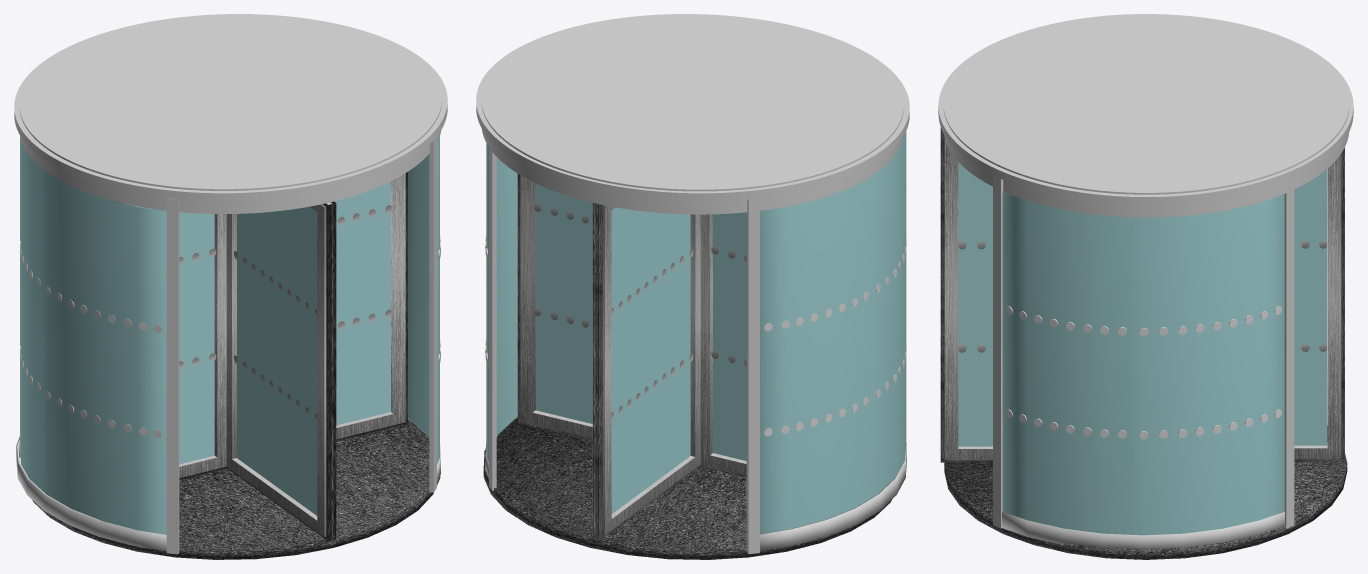
File: RevolvingDoor.fbx
The picture shows the model from 3 angles, left to right: view 1: azimuth 30°, elevation 25°; view 2: azimuth 150°, elevation 25°; view 3: azimuth 270°, elevation 25°; orthographic projection.
Parts seen in each view (by area): view 1: Ceiling, Doors, Glass, Carpet, Glass2, Top, Pillar, Pillar4, Base, Dots; view 2: Ceiling, Doors, Glass, Carpet, Glass2, Top, Pillar2, Base, Pillar3, Dots; view 3: Glass2, Ceiling, Doors, Carpet, Top, Base2, Pillar3, Pillar4, Dots.
Part boxes in pixels (x1=…): Ceiling: x1=19, y1=14, x2=441, y2=213; Doors: x1=123, y1=172, x2=407, y2=541; Glass: x1=20, y1=136, x2=166, y2=534; Carpet: x1=32, y1=419, x2=440, y2=559; Glass2: x1=408, y1=136, x2=439, y2=464; Top: x1=14, y1=14, x2=447, y2=201; Pillar: x1=166, y1=198, x2=179, y2=554; Pillar4: x1=429, y1=137, x2=436, y2=492; Base: x1=16, y1=436, x2=166, y2=550; Dots: x1=20, y1=234, x2=440, y2=437; Ceiling: x1=481, y1=14, x2=903, y2=214; Doors: x1=517, y1=174, x2=746, y2=539; Glass: x1=760, y1=131, x2=906, y2=533; Carpet: x1=483, y1=418, x2=891, y2=559; Glass2: x1=486, y1=143, x2=517, y2=462; Top: x1=476, y1=14, x2=909, y2=201; Pillar2: x1=746, y1=198, x2=759, y2=554; Base: x1=760, y1=443, x2=906, y2=550; Pillar3: x1=489, y1=148, x2=496, y2=490; Dots: x1=485, y1=233, x2=906, y2=436; Glass2: x1=1002, y1=191, x2=1284, y2=535; Ceiling: x1=943, y1=14, x2=1349, y2=217; Doors: x1=940, y1=127, x2=1344, y2=462; Carpet: x1=944, y1=425, x2=1347, y2=559; Top: x1=938, y1=14, x2=1353, y2=204; Base2: x1=1002, y1=512, x2=1284, y2=549; Pillar3: x1=1284, y1=190, x2=1294, y2=528; Pillar4: x1=993, y1=175, x2=1003, y2=528; Dots: x1=1005, y1=306, x2=1281, y2=439.
Size of the model in its own units: 378 by 354 by 362.
